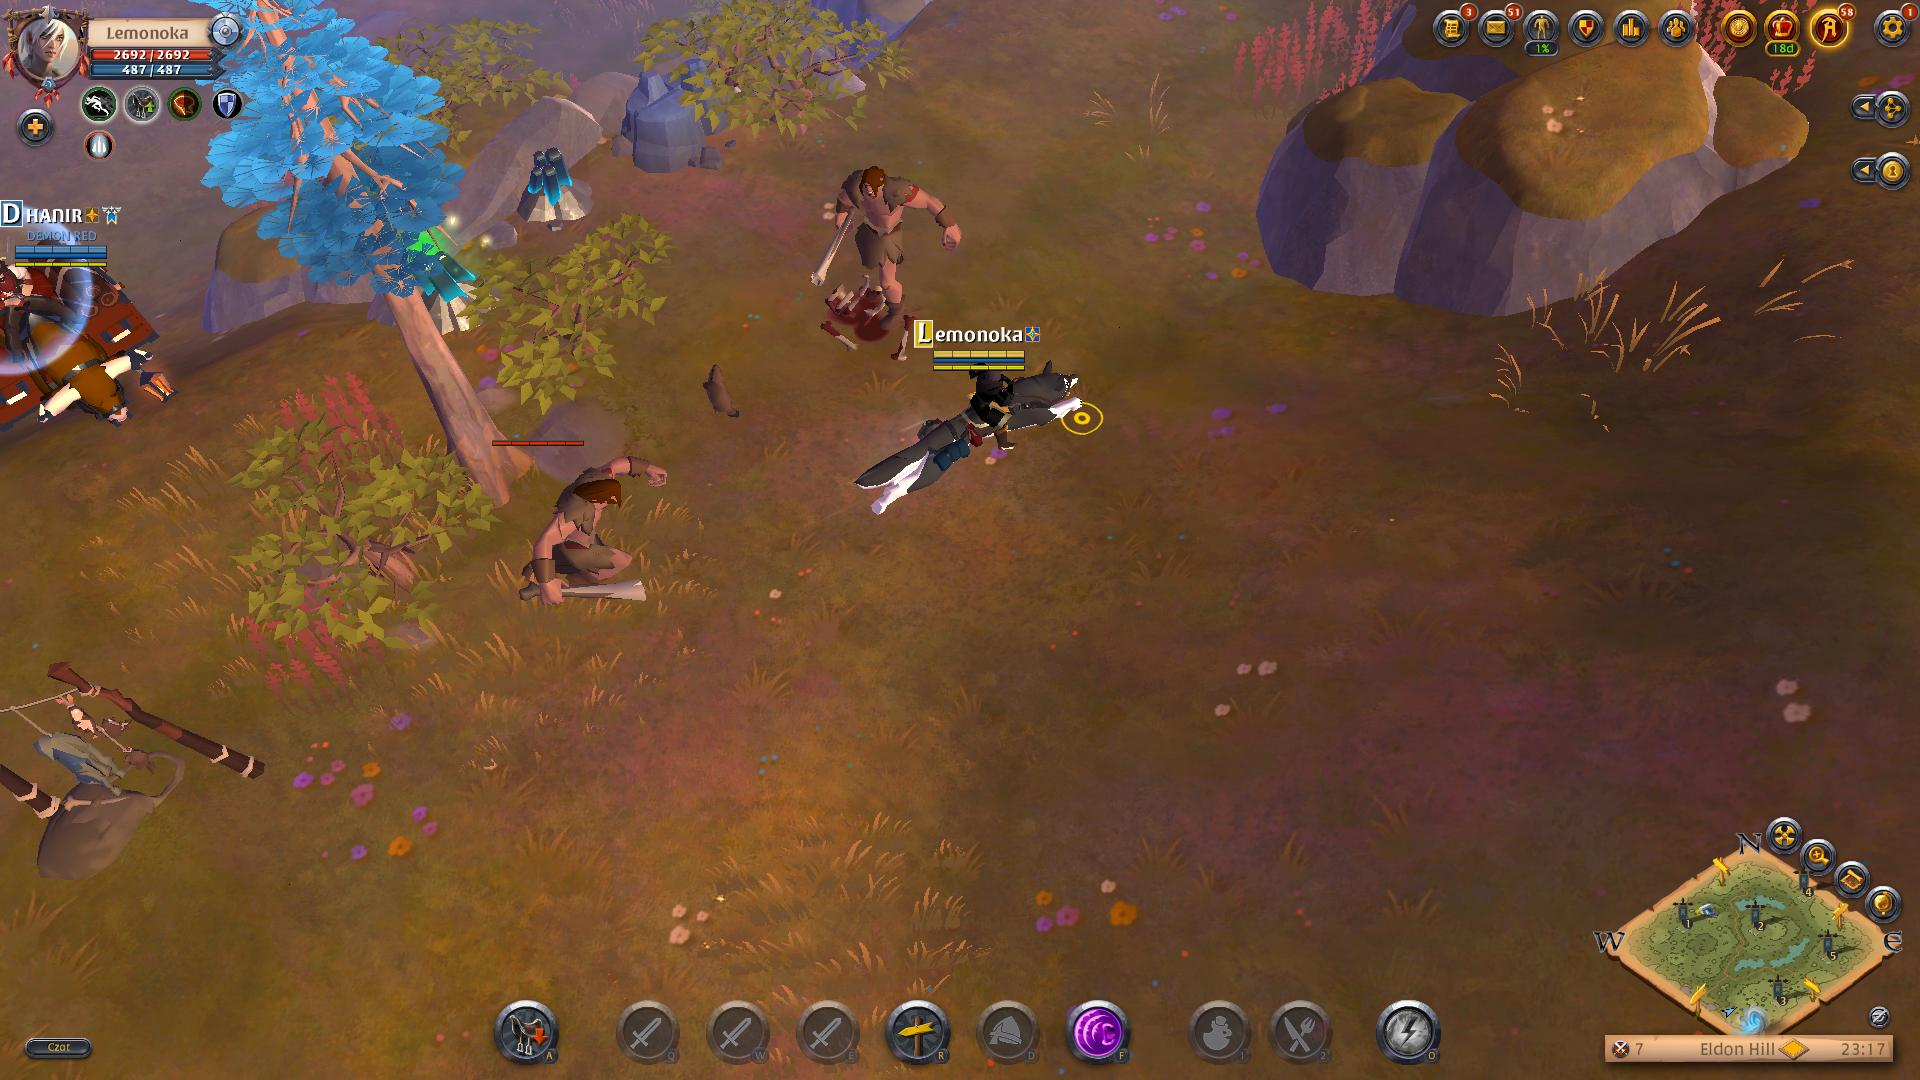ore tier 4: (402, 233, 498, 345), (506, 141, 600, 228)
